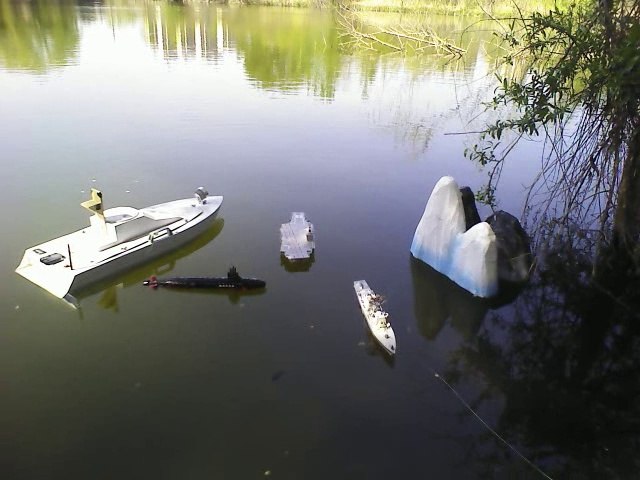aircraft_carrier: (277, 204, 325, 265)
boat: (12, 192, 227, 298)
iceberg: (412, 175, 504, 297)
rock: (463, 185, 533, 288)
submarine: (142, 267, 276, 297)
warship: (352, 277, 400, 358)
